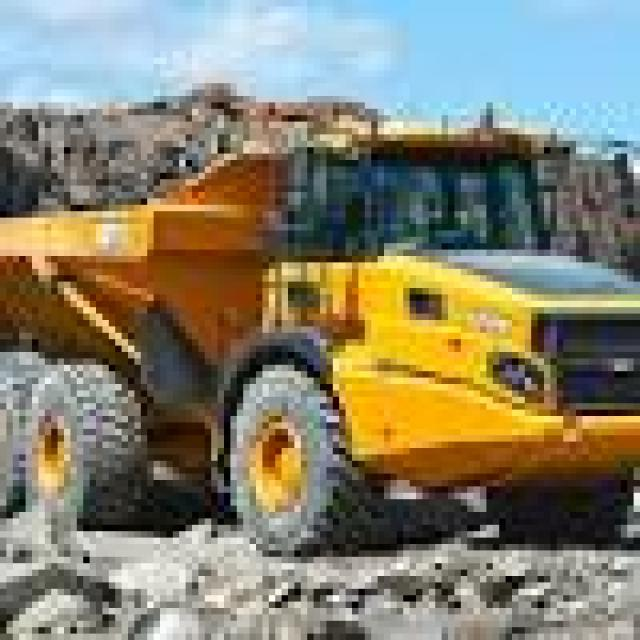dump_truck: (12, 64, 634, 563)
